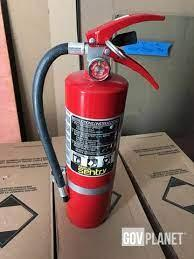floor-kept: (20, 14, 179, 250)
